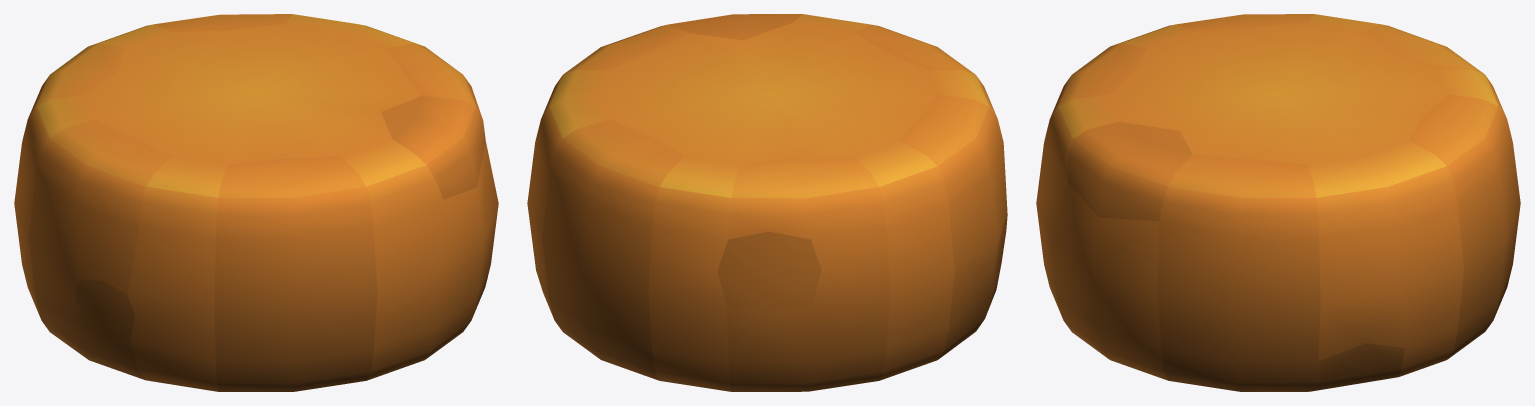
File: tavern_cheese_wheel.fbx
3 renders of one model, left to right at view 1: azimuth 30°, elevation 25°; view 2: azimuth 150°, elevation 25°; view 3: azimuth 270°, elevation 25°, orthographic.
Visible parts, largest first — view 1: tavern_cheese_wheel_LOD0; view 2: tavern_cheese_wheel_LOD0; view 3: tavern_cheese_wheel_LOD0.
Boxes of the visible parts, box(x1,y1,x2,y2) form: tavern_cheese_wheel_LOD0: box(14, 14, 498, 391); tavern_cheese_wheel_LOD0: box(527, 14, 1007, 391); tavern_cheese_wheel_LOD0: box(1036, 14, 1520, 391).
Size of what is drawn, in the model's own units: 97.89 by 49.38 by 99.4.
